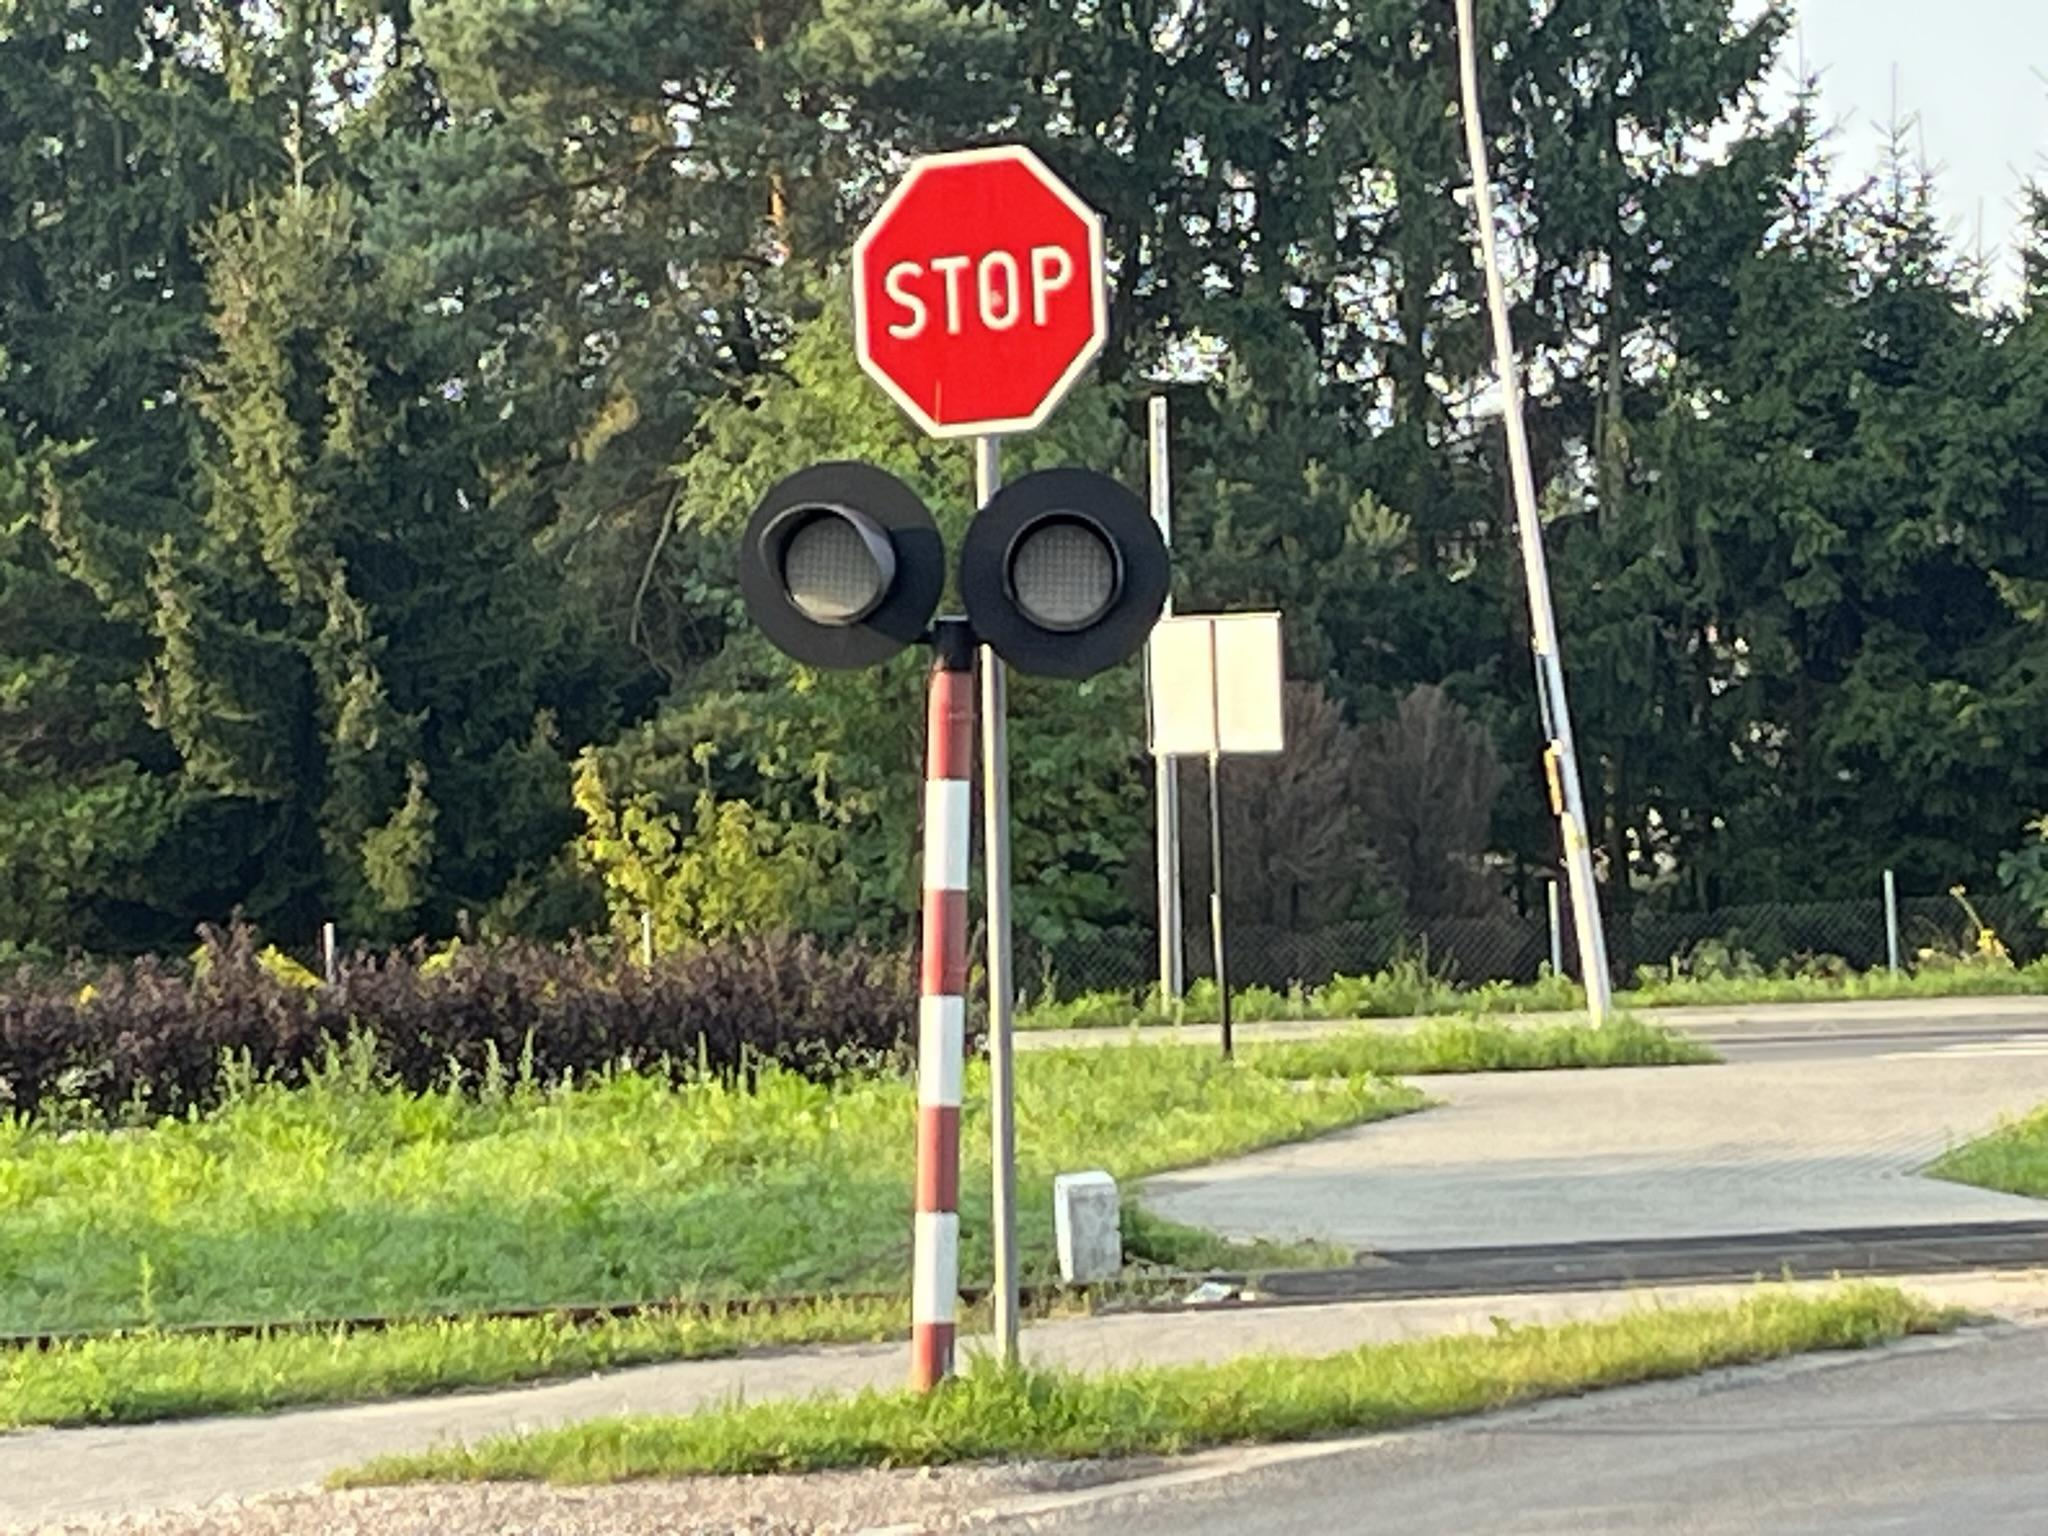prohibitory: (851, 140, 1108, 442)
